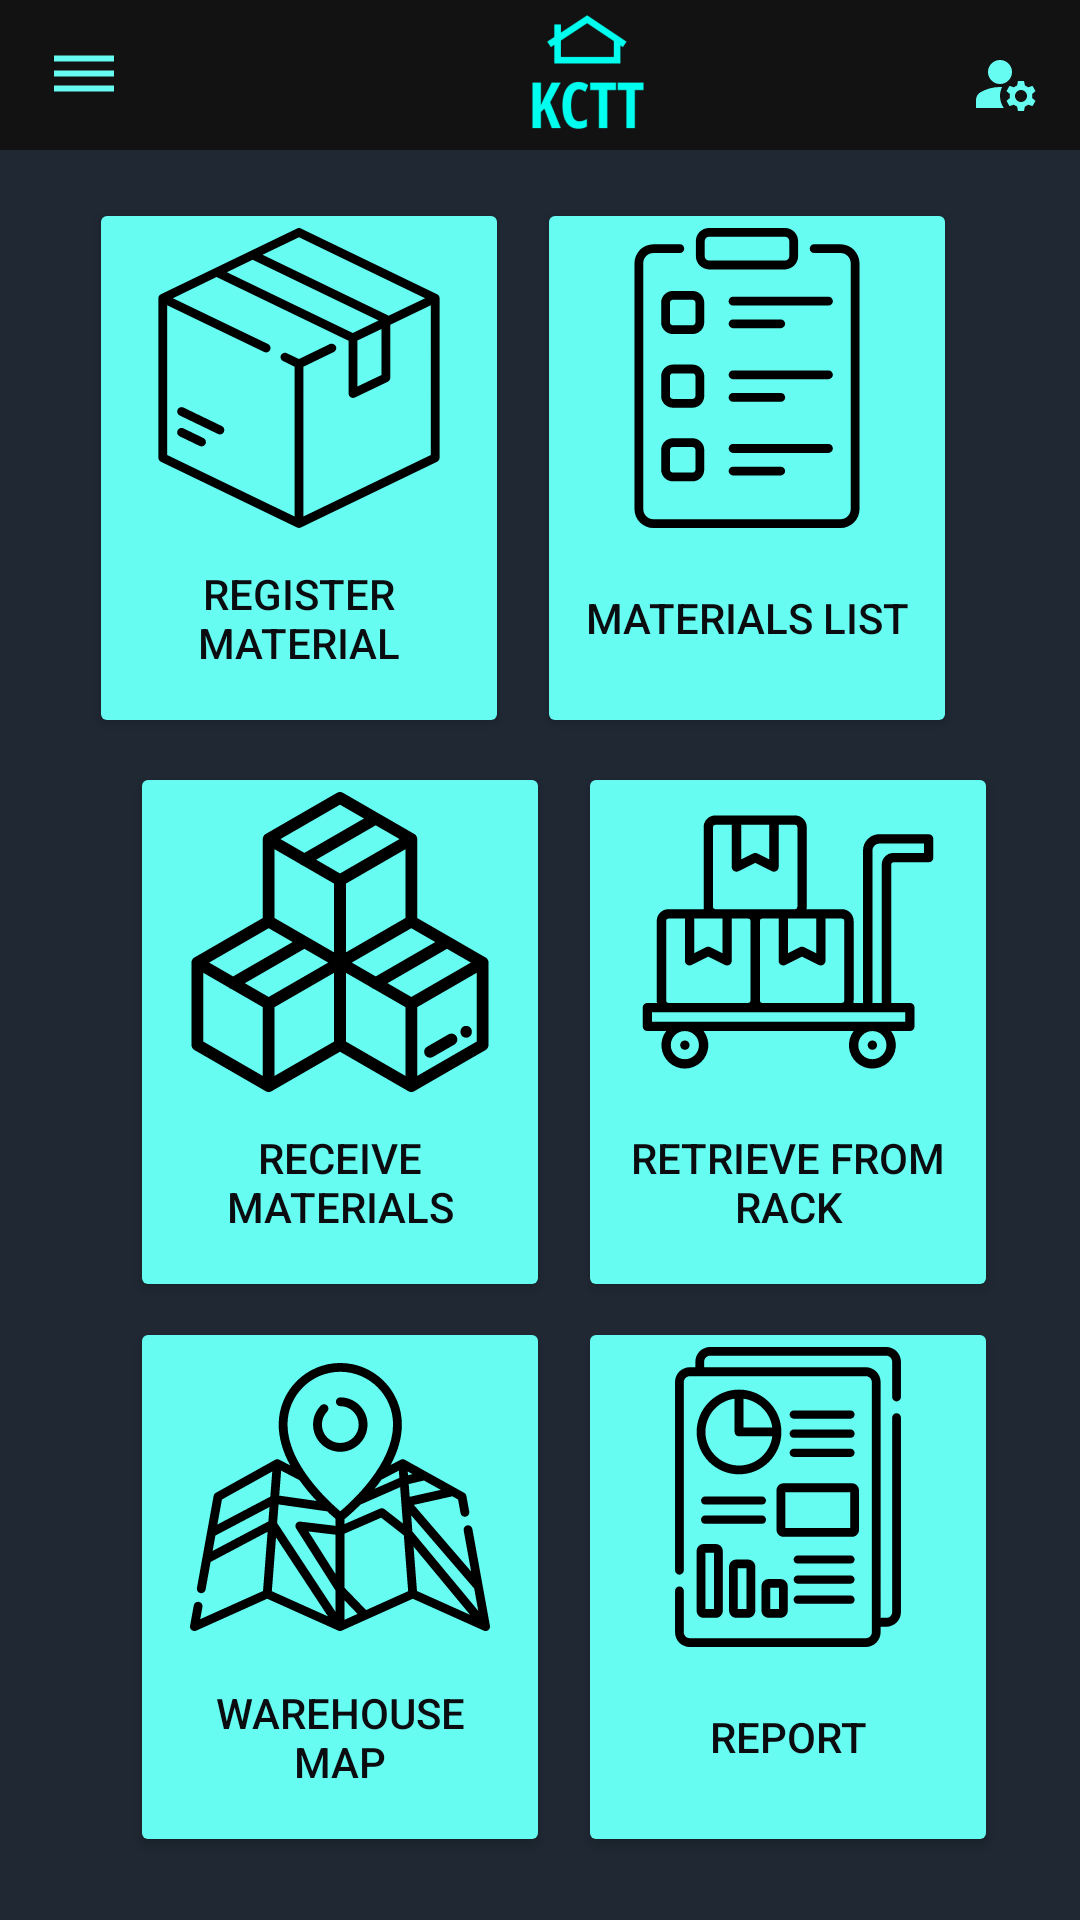

Icon click points for this 1080×1920 phone screenshot, format (x,y):
manage acc: (1006,85)
